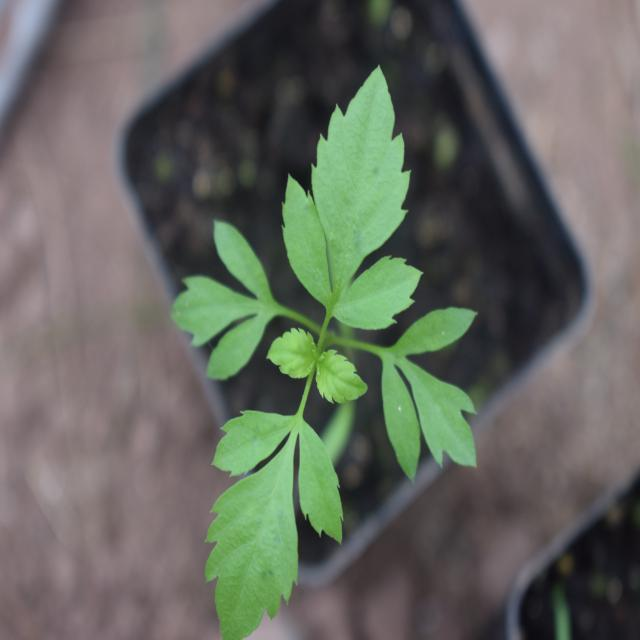Bidens pilosa: (157, 73, 478, 636)
